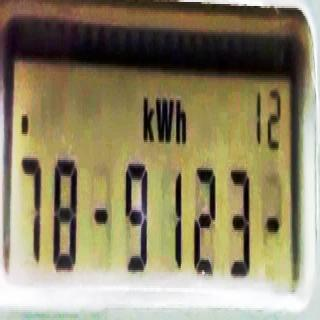-: (93, 197, 107, 235), (20, 109, 30, 139)
0: (265, 204, 280, 242)
1: (173, 166, 184, 273), (255, 88, 263, 152)
2: (192, 163, 219, 285), (266, 81, 282, 160)
3: (228, 162, 254, 284)
7: (20, 149, 44, 268)
8: (51, 147, 79, 278)
9: (123, 150, 150, 283)
